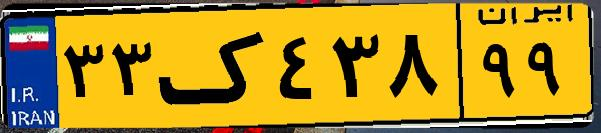3: (330, 28, 385, 110), (57, 26, 110, 100), (110, 28, 158, 98)
4: (270, 28, 330, 110)
8: (385, 28, 445, 110)
9: (475, 38, 525, 113), (525, 38, 570, 115)
ک: (158, 12, 270, 120)
